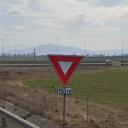preferencia: (46, 52, 86, 88)
